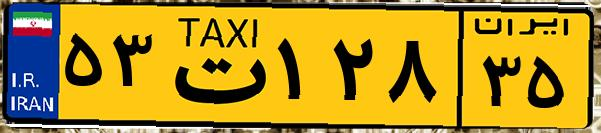1: (270, 28, 330, 110)
2: (330, 28, 385, 110)
3: (475, 38, 525, 113), (110, 28, 158, 98)
5: (57, 26, 110, 100), (525, 38, 570, 115)
8: (385, 28, 445, 110)
ت: (158, 12, 270, 120)
